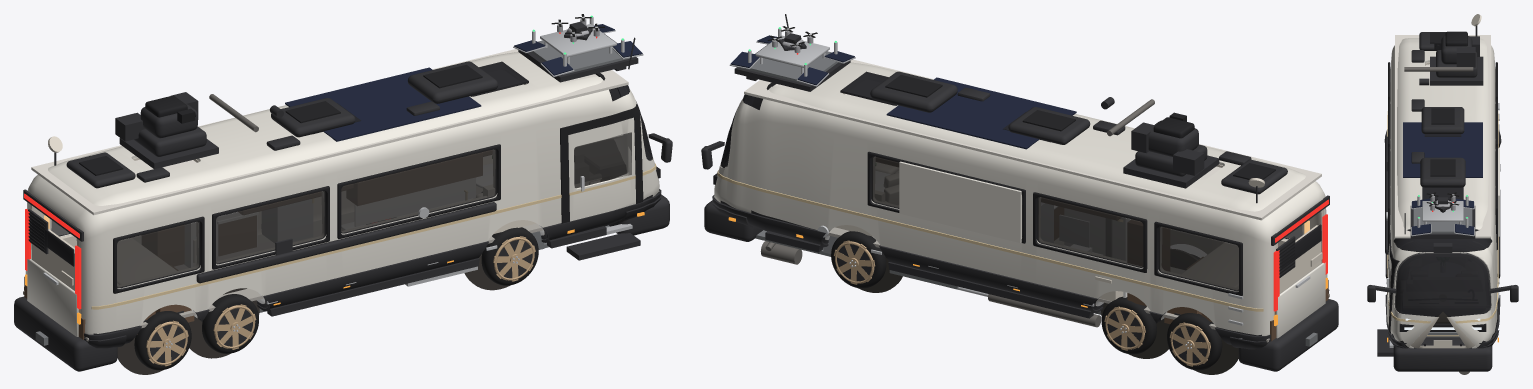
File: starpark_rv.glb
The picture shows the model from 3 angles, left to right: view 1: azimuth 30°, elevation 25°; view 2: azimuth 150°, elevation 25°; view 3: azimuth 270°, elevation 25°; orthographic projection. The views are drawn at different scales.
Visible parts, largest first — view 1: Body, RoofGear, SideGlass, FrontDetails, Kitchen, Valance, InteriorPanels, Cladding, WinFrames, RearDetails, Bedroom, SideDetails (+9 smaller); view 2: Body, RoofGear, SideGlass, SideDetails, Valance, Cladding, InteriorPanels, RearDetails, WinFrames, Bedroom, Bath, Wheel_2_1 (+10 smaller); view 3: RoofGear, Body, Windshield, Valance, FrontDetails, InteriorPanels, WinFrames, RoofBand, Cladding, SideDetails, Liner, GoldLine (+3 smaller).
Part boxes in pixels (bbox=[...]): Body: bbox=[25, 52, 659, 334]; RoofGear: bbox=[48, 14, 643, 188]; SideGlass: bbox=[51, 132, 631, 287]; FrontDetails: bbox=[560, 104, 672, 260]; Kitchen: bbox=[262, 152, 482, 242]; Valance: bbox=[14, 194, 669, 371]; InteriorPanels: bbox=[23, 49, 628, 341]; Cladding: bbox=[24, 189, 661, 348]; WinFrames: bbox=[59, 144, 500, 293]; RearDetails: bbox=[23, 189, 83, 345]; Bedroom: bbox=[24, 215, 194, 339]; SideDetails: bbox=[196, 202, 644, 305]; Body: bbox=[714, 62, 1327, 336]; RoofGear: bbox=[729, 14, 1287, 203]; SideGlass: bbox=[872, 156, 1302, 290]; SideDetails: bbox=[728, 161, 1243, 338]; Valance: bbox=[704, 200, 1338, 371]; Cladding: bbox=[712, 195, 1329, 349]; InteriorPanels: bbox=[744, 59, 1329, 342]; RearDetails: bbox=[1271, 195, 1329, 346]; WinFrames: bbox=[867, 151, 1288, 295]; Bedroom: bbox=[1127, 219, 1328, 341]; Bath: bbox=[1060, 208, 1130, 301]; Wheel_2_1: bbox=[1167, 313, 1222, 370]; RoofGear: bbox=[1403, 14, 1483, 253]; Body: bbox=[1390, 38, 1497, 348]; Windshield: bbox=[1394, 252, 1491, 316]; Valance: bbox=[1393, 337, 1492, 371]; FrontDetails: bbox=[1367, 230, 1518, 356]; InteriorPanels: bbox=[1395, 35, 1490, 238]; WinFrames: bbox=[1388, 62, 1497, 249]; RoofBand: bbox=[1395, 238, 1490, 251]; Cladding: bbox=[1384, 129, 1501, 348]; SideDetails: bbox=[1385, 103, 1499, 342]; Liner: bbox=[1411, 62, 1474, 348]; GoldLine: bbox=[1387, 111, 1498, 323].
Bounding box in the file's own units: 12.46 × 4.72 × 3.53.
